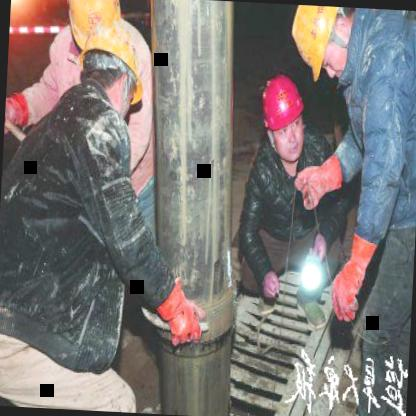helmet: (76, 22, 150, 122), (280, 4, 362, 80), (256, 68, 310, 166), (60, 0, 125, 68)
